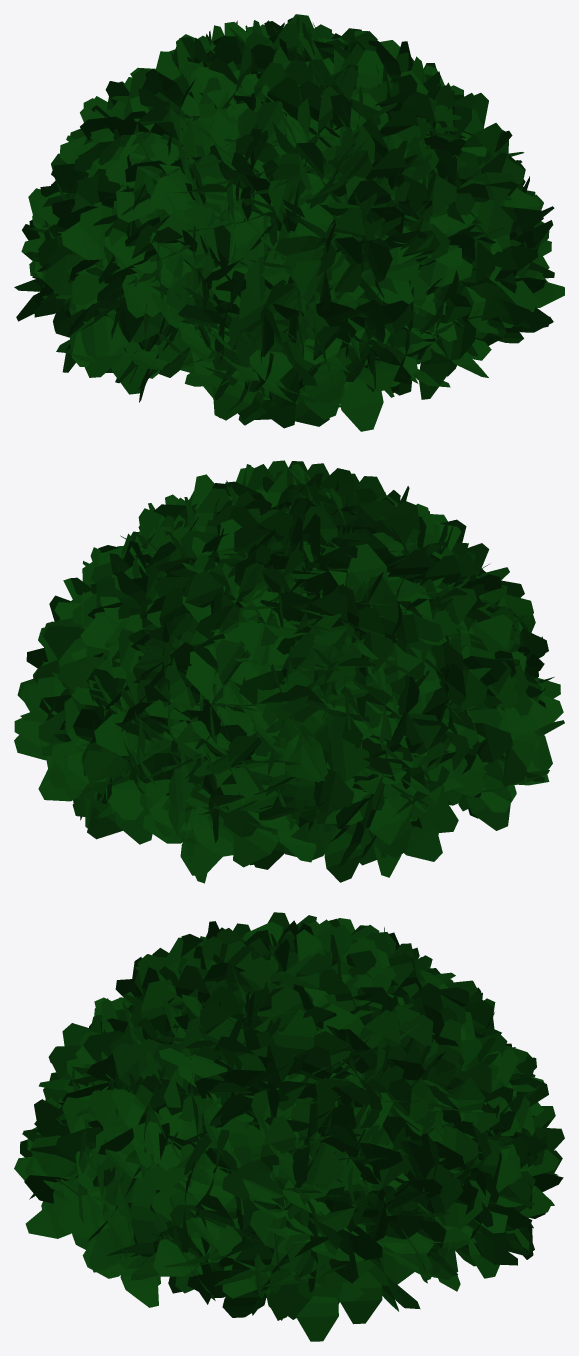
The model's file is mediumBush.fbx.
The picture shows the model from 3 angles, top to bottom: view 1: azimuth 30°, elevation 25°; view 2: azimuth 150°, elevation 25°; view 3: azimuth 270°, elevation 25°; orthographic projection.
Visible parts, largest first — view 1: Sphere; view 2: Sphere; view 3: Sphere.
Part boxes in pixels (x1=…): Sphere: x1=14, y1=14, x2=564, y2=431; Sphere: x1=14, y1=460, x2=564, y2=883; Sphere: x1=14, y1=912, x2=564, y2=1341.
Bounding box in the file's own units: 234 × 143 × 234.
